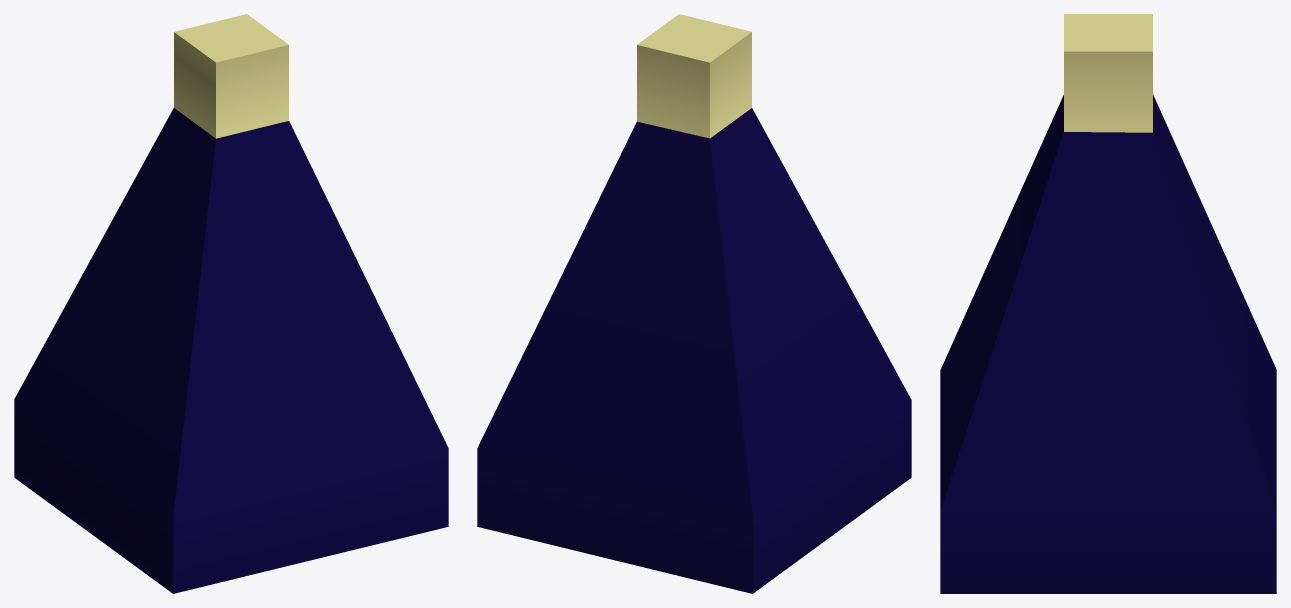
The model's file is blue bottle.fbx.
3 renders of one model, left to right at view 1: azimuth 30°, elevation 25°; view 2: azimuth 150°, elevation 25°; view 3: azimuth 270°, elevation 25°, orthographic. The views are drawn at different scales.
Visible parts, largest first — view 1: blue_bottle; view 2: blue_bottle; view 3: blue_bottle.
Part boxes in pixels (left/top/right/bottom): blue_bottle: left=14, top=14, right=448, bottom=593; blue_bottle: left=477, top=14, right=911, bottom=593; blue_bottle: left=940, top=14, right=1276, bottom=593.
Size of the model in its own units: 1.09 by 1.76 by 1.09.
